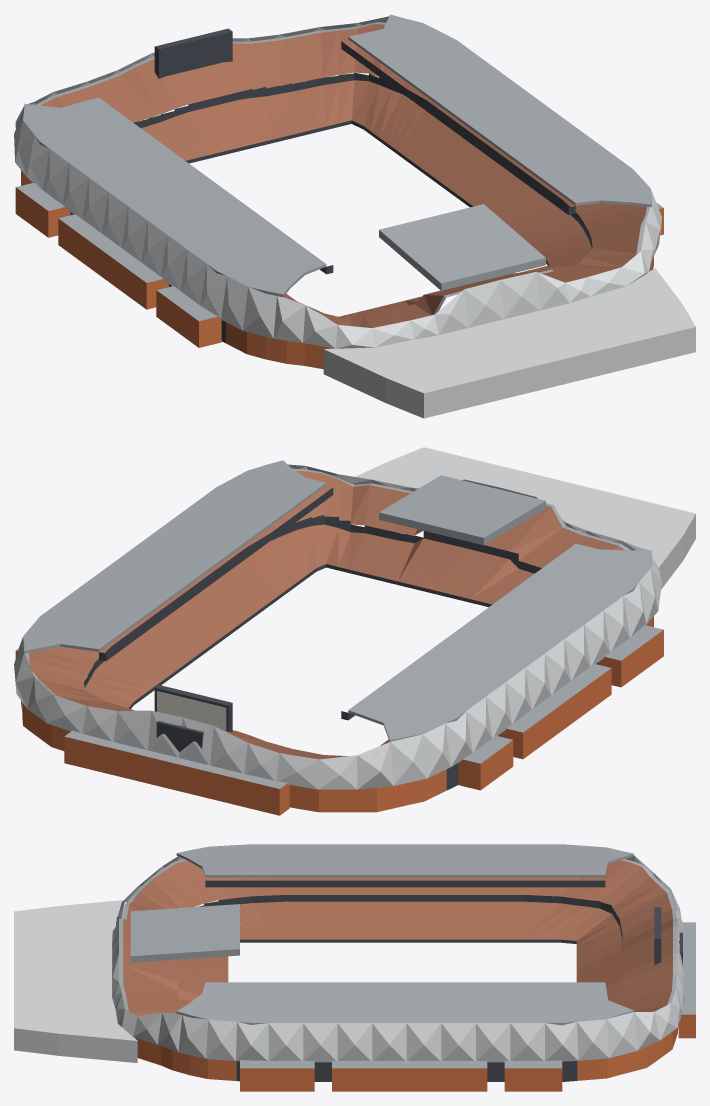
The model's file is hou-shell-energy-stadium.glb.
The picture shows the model from 3 angles, top to bottom: view 1: azimuth 30°, elevation 25°; view 2: azimuth 150°, elevation 25°; view 3: azimuth 270°, elevation 25°; orthographic projection. The views are drawn at different scales.
Visible parts, largest first — view 1: Shell Energy Stadium; view 2: Shell Energy Stadium; view 3: Shell Energy Stadium.
Part boxes in pixels (x1,y1,x2,y2): Shell Energy Stadium: [14, 14, 695, 418]; Shell Energy Stadium: [14, 447, 695, 815]; Shell Energy Stadium: [14, 844, 695, 1091].
Size of the model in its own units: 164 by 26.4 by 237.
